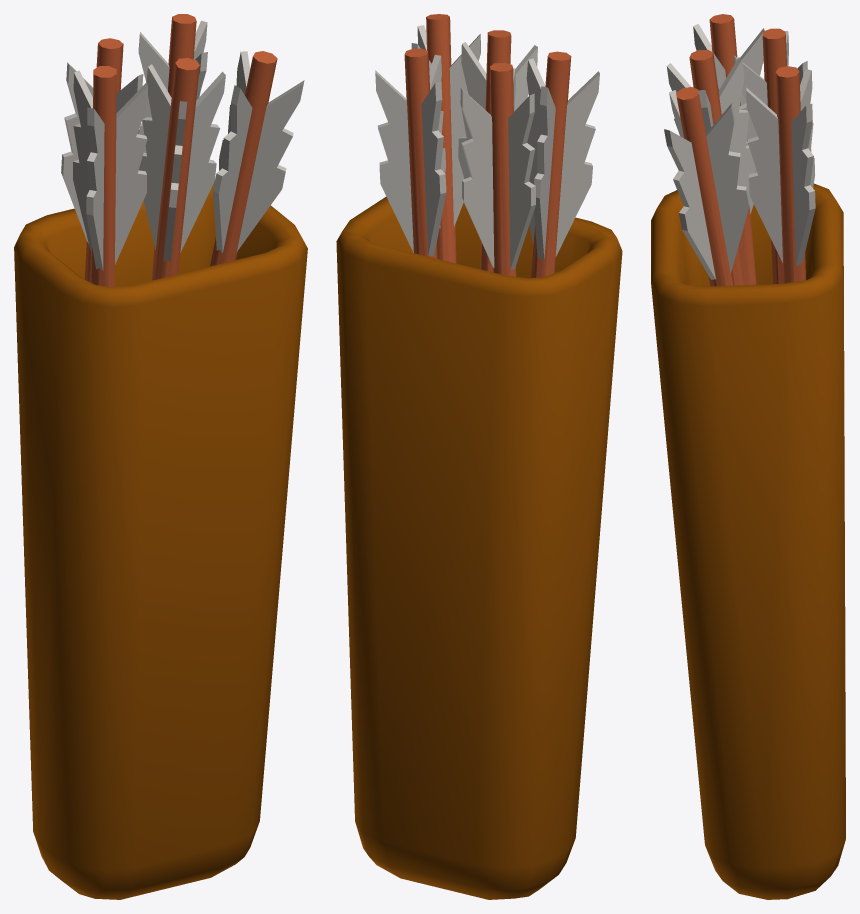
File: QuiverBow.fbx
The picture shows the model from 3 angles, left to right: view 1: azimuth 30°, elevation 25°; view 2: azimuth 150°, elevation 25°; view 3: azimuth 270°, elevation 25°; orthographic projection. The views are drawn at different scales.
Parts seen in each view (by area): view 1: QuiverBow; view 2: QuiverBow; view 3: QuiverBow.
Part boxes in pixels (x1=…): QuiverBow: x1=14, y1=14, x2=307, y2=899; QuiverBow: x1=336, y1=14, x2=622, y2=899; QuiverBow: x1=651, y1=14, x2=845, y2=899.
Bounding box in the file's own units: 27.41 × 92.99 × 19.95.
